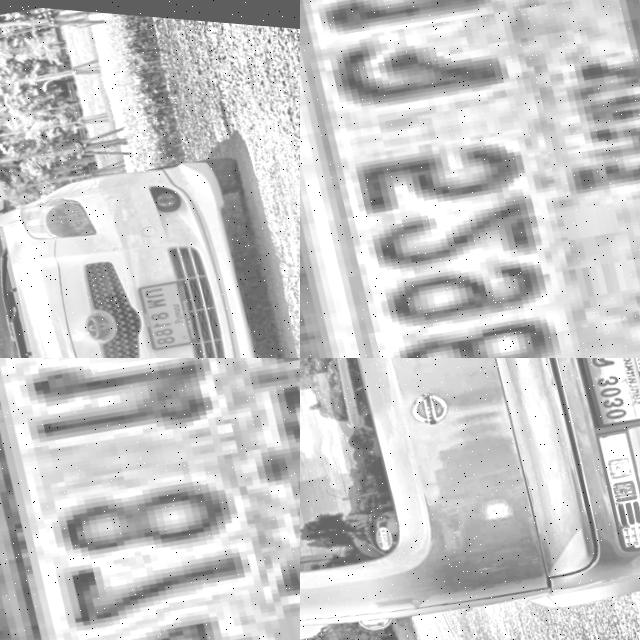license-plate: (300, 0, 640, 358), (0, 358, 300, 640), (128, 263, 207, 351), (567, 358, 640, 431)
